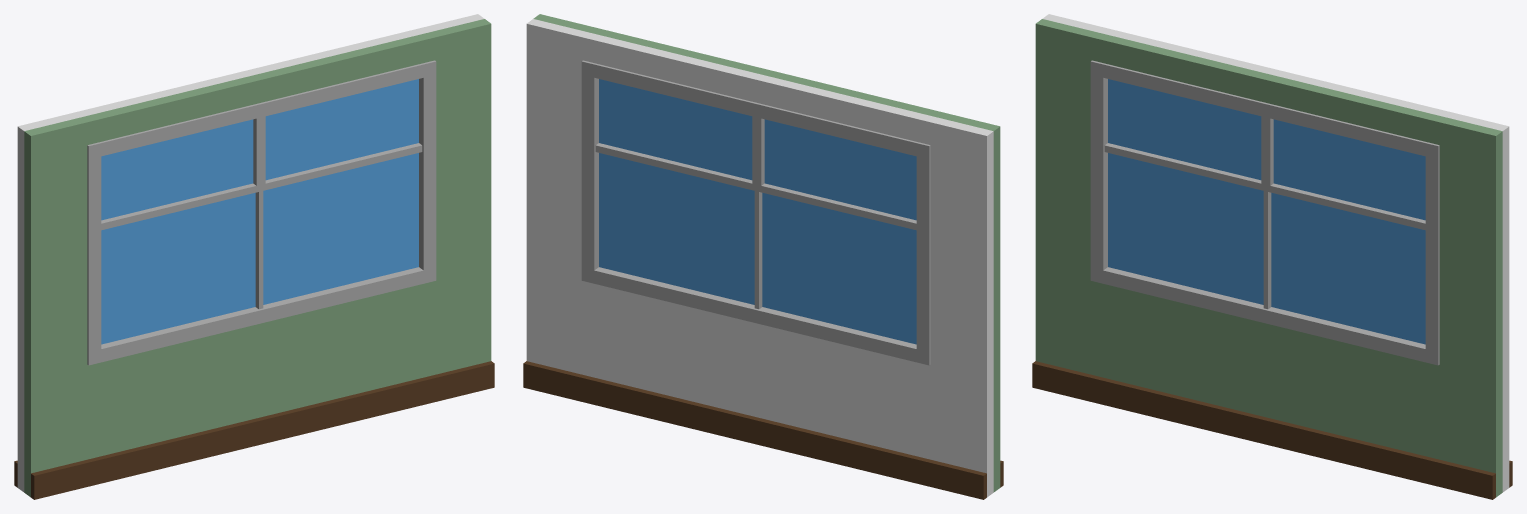
Rendered from h_wall_1_window2.fbx.
3 renders of one model, left to right at view 1: azimuth 30°, elevation 25°; view 2: azimuth 150°, elevation 25°; view 3: azimuth 330°, elevation 25°, orthographic.
Parts seen in each view (by area): view 1: Cube; view 2: Cube; view 3: Cube.
Part boxes in pixels (left/top/right/bottom): Cube: left=14, top=14, right=494, bottom=499; Cube: left=523, top=14, right=1003, bottom=499; Cube: left=1032, top=14, right=1512, bottom=499.
Size of the model in its own units: 400 by 300 by 30.
